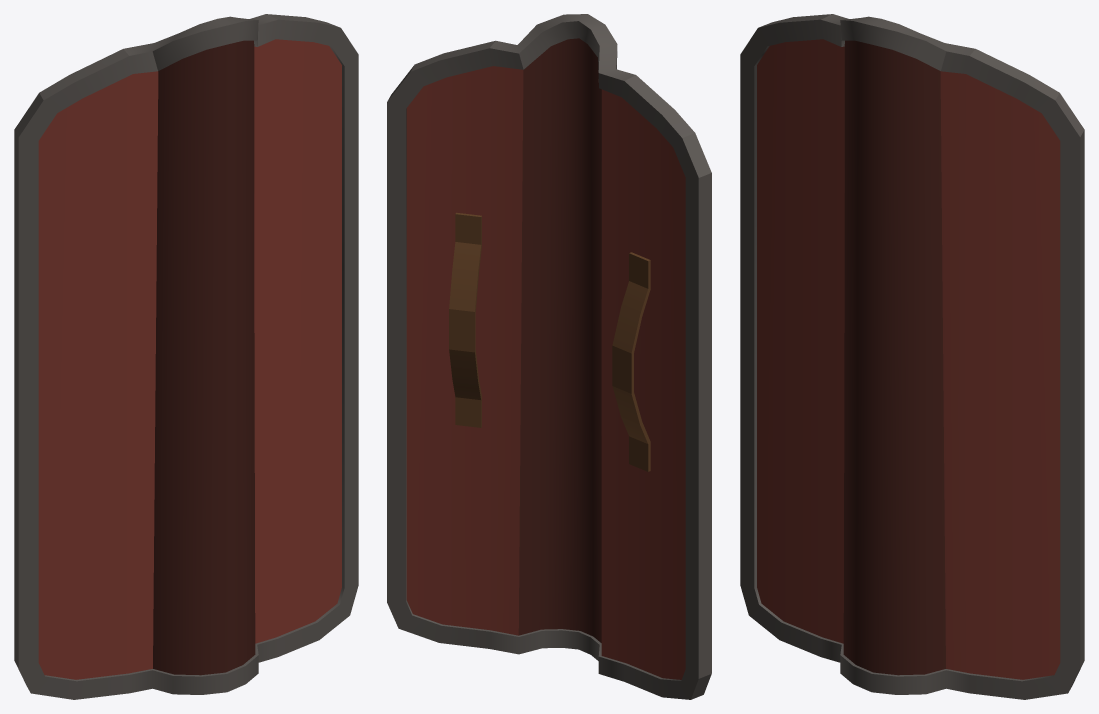
The model's file is Pavise Shield_Red.glb.
3 renders of one model, left to right at view 1: azimuth 30°, elevation 25°; view 2: azimuth 150°, elevation 25°; view 3: azimuth 330°, elevation 25°, orthographic. The views are drawn at different scales.
Visible parts, largest first — view 1: Pavise Shield_Red; view 2: Pavise Shield_Red; view 3: Pavise Shield_Red.
Part boxes in pixels (x1,y1,x2,y2): Pavise Shield_Red: (14,14,358,699); Pavise Shield_Red: (387,14,711,699); Pavise Shield_Red: (740,14,1084,699).
Bounding box in the file's own units: 0.6521 × 1.22 × 0.1693.
Materials: 1 (1 with a texture image).
